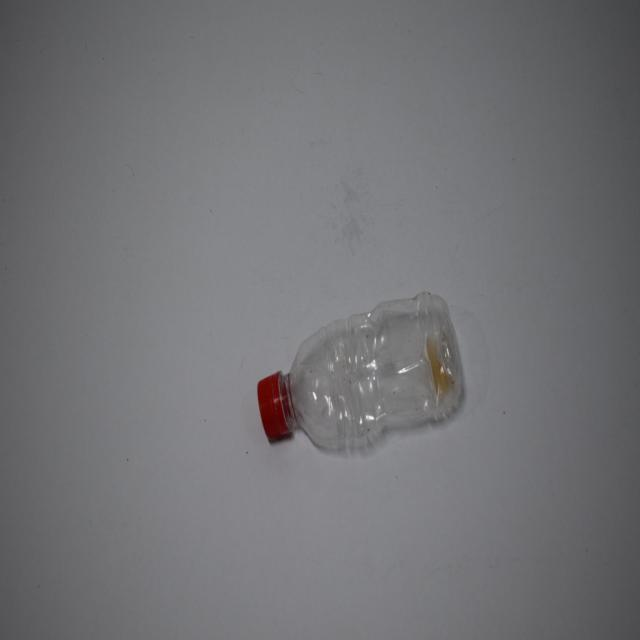empty: (257, 292, 463, 452)
